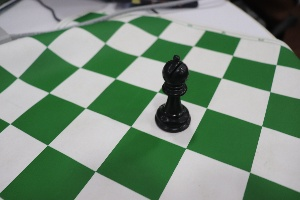black_bishop: (151, 49, 197, 138)
